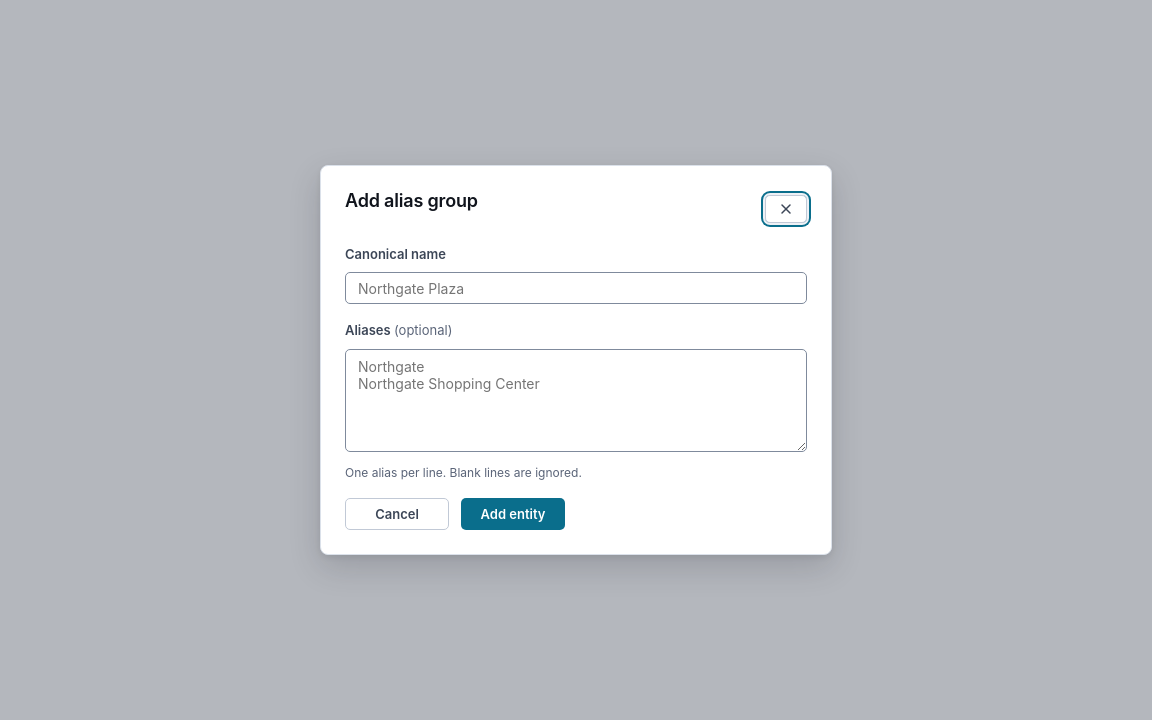
Test: EntityEditorDialog › folds an indexed aliases.0 server-validation error onto the aliases field, not the form banner
This screenshot has width=1152, height=720.
Type "Lakeside Mall" into the field labelled "Canonical name".
click(576, 288); type("Lakeside Mall")  # box [345,272,807,304]
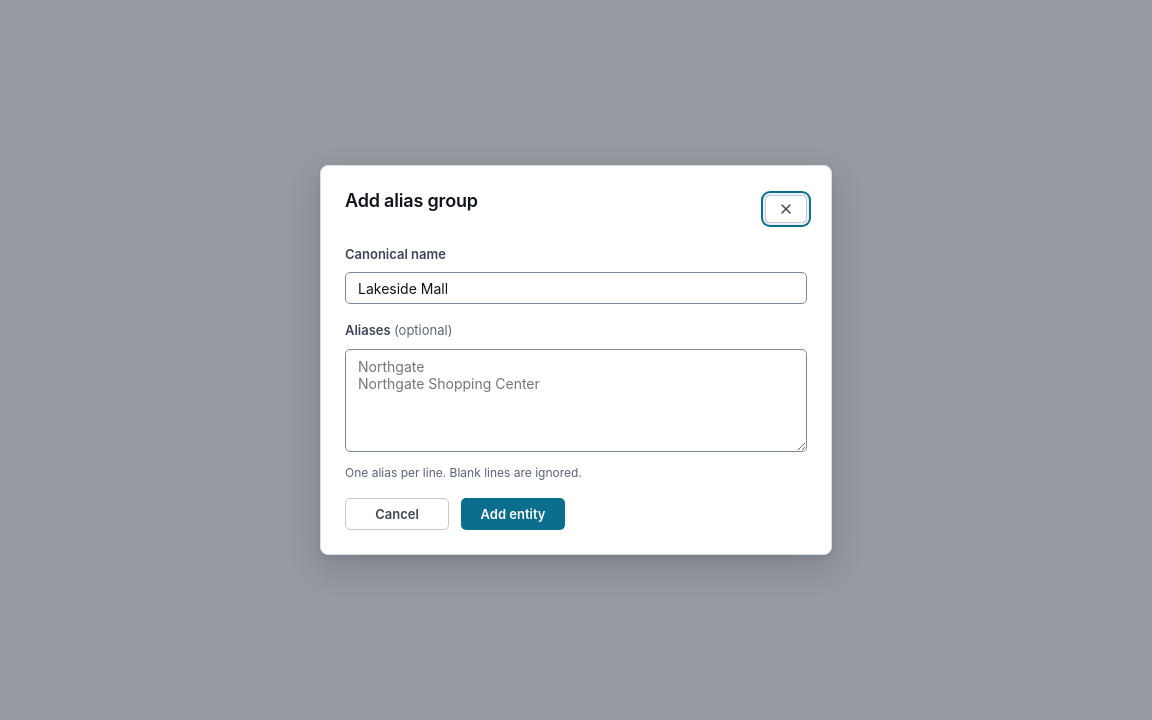
Click the button "Add entity".
click(513, 514)  # box [461,498,565,530]
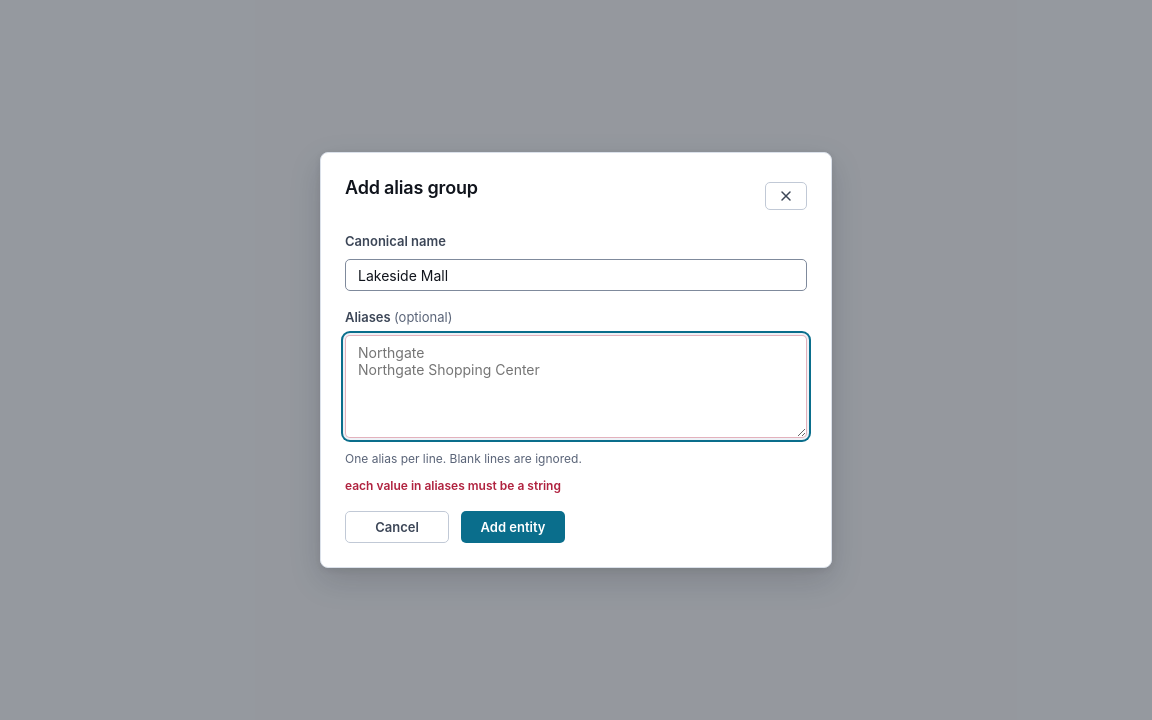
expect the text "each value in aliases must be a string" is shown: met, box [344,477,561,493]
